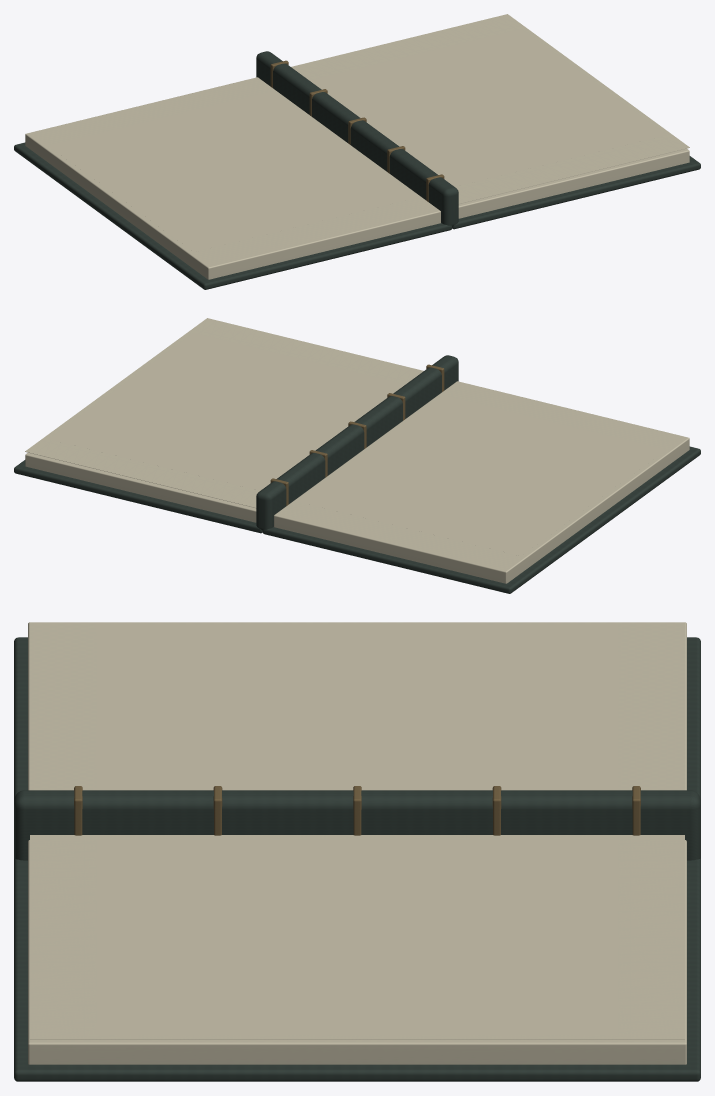
Rendered from E01_Album.fbx.
The picture shows the model from 3 angles, top to bottom: view 1: azimuth 30°, elevation 25°; view 2: azimuth 150°, elevation 25°; view 3: azimuth 270°, elevation 25°; orthographic projection. The views are drawn at different scales.
Parts seen in each view (by area): view 1: ContentL_Mesh, PageContent_Turn, LeftPageStack_Mesh, TurnPaper, Spine_Mesh, CoverPivot_Mesh, RightPageStack_Mesh, BackCover_Mesh; view 2: ContentL_Mesh, PageContent_Turn, LeftPageStack_Mesh, TurnPaper, Spine_Mesh, CoverPivot_Mesh, RightPageStack_Mesh, BackCover_Mesh; view 3: PageContent_Turn, ContentL_Mesh, TurnPaper, Spine_Mesh, LeftPageStack_Mesh, BackCover_Mesh, RightPageStack_Mesh, CoverPivot_Mesh.
Part boxes in pixels (x1,y1,x2,y2): ContentL_Mesh: [49, 91, 417, 251]; PageContent_Turn: [309, 29, 665, 186]; LeftPageStack_Mesh: [25, 77, 440, 279]; TurnPaper: [291, 14, 689, 203]; Spine_Mesh: [256, 51, 458, 226]; CoverPivot_Mesh: [14, 142, 452, 289]; RightPageStack_Mesh: [458, 148, 689, 218]; BackCover_Mesh: [452, 156, 700, 229]; ContentL_Mesh: [297, 395, 665, 555]; PageContent_Turn: [49, 333, 405, 490]; LeftPageStack_Mesh: [274, 381, 689, 583]; TurnPaper: [25, 318, 423, 507]; Spine_Mesh: [256, 355, 458, 530]; CoverPivot_Mesh: [262, 446, 700, 593]; RightPageStack_Mesh: [25, 452, 256, 522]; BackCover_Mesh: [14, 460, 262, 533]; PageContent_Turn: [96, 839, 618, 1034]; ContentL_Mesh: [96, 624, 618, 790]; TurnPaper: [30, 835, 684, 1039]; Spine_Mesh: [14, 786, 700, 860]; LeftPageStack_Mesh: [28, 622, 686, 790]; BackCover_Mesh: [14, 858, 700, 1081]; RightPageStack_Mesh: [28, 840, 686, 1064]; CoverPivot_Mesh: [14, 637, 700, 858].
Size of the model in its own units: 0.48 by 0.0375 by 0.32.
